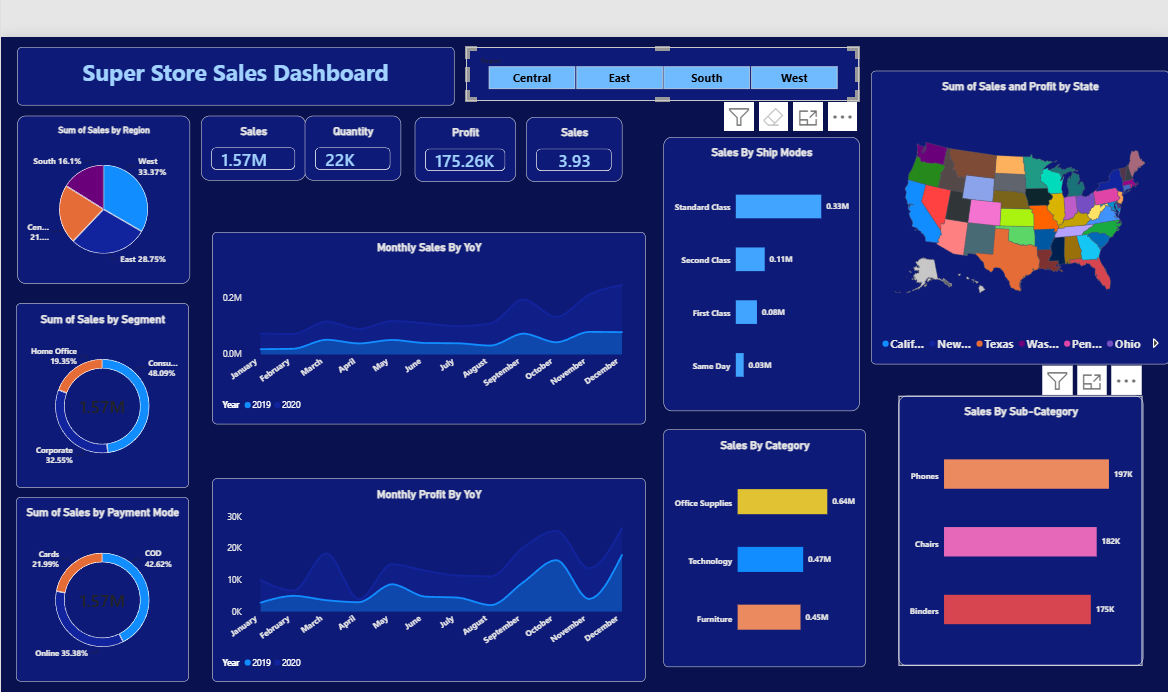

The dashboard page shown, as its layout file describes it:
{"tool":"powerbi","page":{"name":"Page 1","canvas":[1920,1080],"ordinal":0},"visuals":[{"type":"clusteredBarChart","title":"Sales By Category","fields":{"Category":["SuperStore_Sales_Dataset.Category"],"Y":["Sum(SuperStore_Sales_Dataset.Sales)"]},"box":[1088,644,332,390],"z":0},{"type":"clusteredBarChart","title":"Sales By Sub-Category","fields":{"Category":["SuperStore_Sales_Dataset.Sub-Category"],"Y":["Sum(SuperStore_Sales_Dataset.Sales)"]},"box":[1474,590,402,444],"z":1000},{"type":"clusteredBarChart","title":"Sales By Ship Modes","fields":{"Category":["SuperStore_Sales_Dataset.Ship Mode"],"Y":["Sum(SuperStore_Sales_Dataset.Sales)"]},"box":[1088,164,322,450],"z":2000},{"type":"stackedAreaChart","title":"Monthly Sales By YoY","fields":{"Category":["SuperStore_Sales_Dataset.Order Date.Variation.Date Hierarchy.Month","SuperStore_Sales_Dataset.Order Date.Variation.Date Hierarchy.Day"],"Series":["SuperStore_Sales_Dataset.Order Date.Variation.Date Hierarchy.Year"],"Y":["Sum(SuperStore_Sales_Dataset.Sales)"]},"box":[348,320,712,316],"z":3000},{"type":"shapeMap","title":"Sum of Sales and Profit by State ","fields":{"Category":["SuperStore_Sales_Dataset.State"],"Series":["SuperStore_Sales_Dataset.State"],"Value":["Sum(SuperStore_Sales_Dataset.Sales)"]},"box":[1430,56,490,482],"z":4000},{"type":"stackedAreaChart","title":"Monthly Profit By YoY","fields":{"Category":["SuperStore_Sales_Dataset.Order Date.Variation.Date Hierarchy.Month","SuperStore_Sales_Dataset.Order Date.Variation.Date Hierarchy.Day"],"Series":["SuperStore_Sales_Dataset.Order Date.Variation.Date Hierarchy.Year"],"Y":["Sum(SuperStore_Sales_Dataset.Profit)"]},"box":[348,726,712,334],"z":5000},{"type":"donutChart","fields":{"Category":["SuperStore_Sales_Dataset.Segment"],"Y":["Sum(SuperStore_Sales_Dataset.Sales)"]},"box":[25,438.3,284,303],"z":6000},{"type":"donutChart","fields":{"Category":["SuperStore_Sales_Dataset.Payment Mode"],"Y":["Sum(SuperStore_Sales_Dataset.Sales)"]},"box":[25,756.7,284,303],"z":7000},{"type":"slicer","fields":{"Values":["SuperStore_Sales_Dataset.Region"]},"box":[764,16,646,88],"z":8000},{"type":"textbox","box":[26,16,718,96],"z":9000},{"type":"cardVisual","title":"Sales","fields":{"Data":["Sum(SuperStore_Sales_Dataset.Sales)"]},"box":[328,130,172,106],"z":10000},{"type":"cardVisual","title":"Quantity","fields":{"Data":["Sum(SuperStore_Sales_Dataset.Quantity)"]},"box":[500,130,158,106],"z":11000},{"type":"cardVisual","title":"Profit","fields":{"Data":["Sum(SuperStore_Sales_Dataset.Profit)"]},"box":[680,132,166,106],"z":12000},{"type":"cardVisual","title":"Sales","fields":{"Data":["Avg(SuperStore_Sales_Dataset.AvgDelivery)"]},"box":[862,132,158.3,106.7],"z":13000},{"type":"pieChart","fields":{"Category":["SuperStore_Sales_Dataset.Region"],"Y":["Sum(SuperStore_Sales_Dataset.Sales)"]},"box":[26,130,284,276],"z":13001}]}

Visuals, with their boxes on the page's 1920x1080 design canvas (x1, y1, x2, y2). These are canvas units, not pixel positions in the 1168x692 screenshot, which may show the page scaled, cropped or inside an application window:
"Sales By Category" clusteredBarChart: box(1088, 644, 1420, 1034)
"Sales By Sub-Category" clusteredBarChart: box(1474, 590, 1876, 1034)
"Sales By Ship Modes" clusteredBarChart: box(1088, 164, 1410, 614)
"Monthly Sales By YoY" stackedAreaChart: box(348, 320, 1060, 636)
"Sum of Sales and Profit by State " shapeMap: box(1430, 56, 1920, 538)
"Monthly Profit By YoY" stackedAreaChart: box(348, 726, 1060, 1060)
donutChart - SuperStore_Sales_Dataset.Segment x Sum(SuperStore_Sales_Dataset.Sales): box(25, 438, 309, 741)
donutChart - SuperStore_Sales_Dataset.Payment Mode x Sum(SuperStore_Sales_Dataset.Sales): box(25, 757, 309, 1060)
slicer - SuperStore_Sales_Dataset.Region: box(764, 16, 1410, 104)
textbox: box(26, 16, 744, 112)
"Sales" cardVisual: box(328, 130, 500, 236)
"Quantity" cardVisual: box(500, 130, 658, 236)
"Profit" cardVisual: box(680, 132, 846, 238)
"Sales" cardVisual: box(862, 132, 1020, 239)
pieChart - SuperStore_Sales_Dataset.Region x Sum(SuperStore_Sales_Dataset.Sales): box(26, 130, 310, 406)
